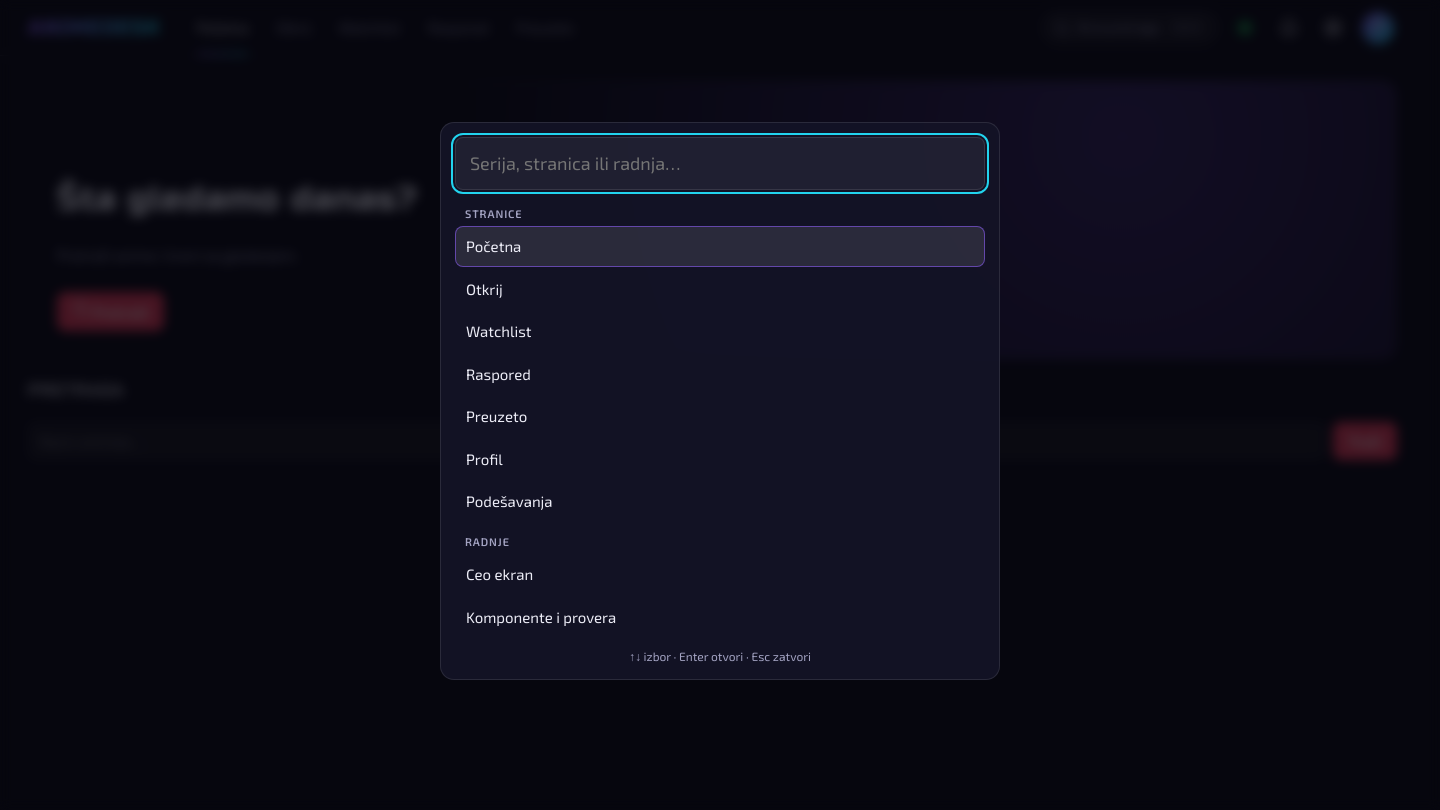
Test case: App command palette › the wizard action opens the setup wizard
Click the option "Komponente i provera" at (541, 616), box top-left (466, 608), bottom-right (616, 626)
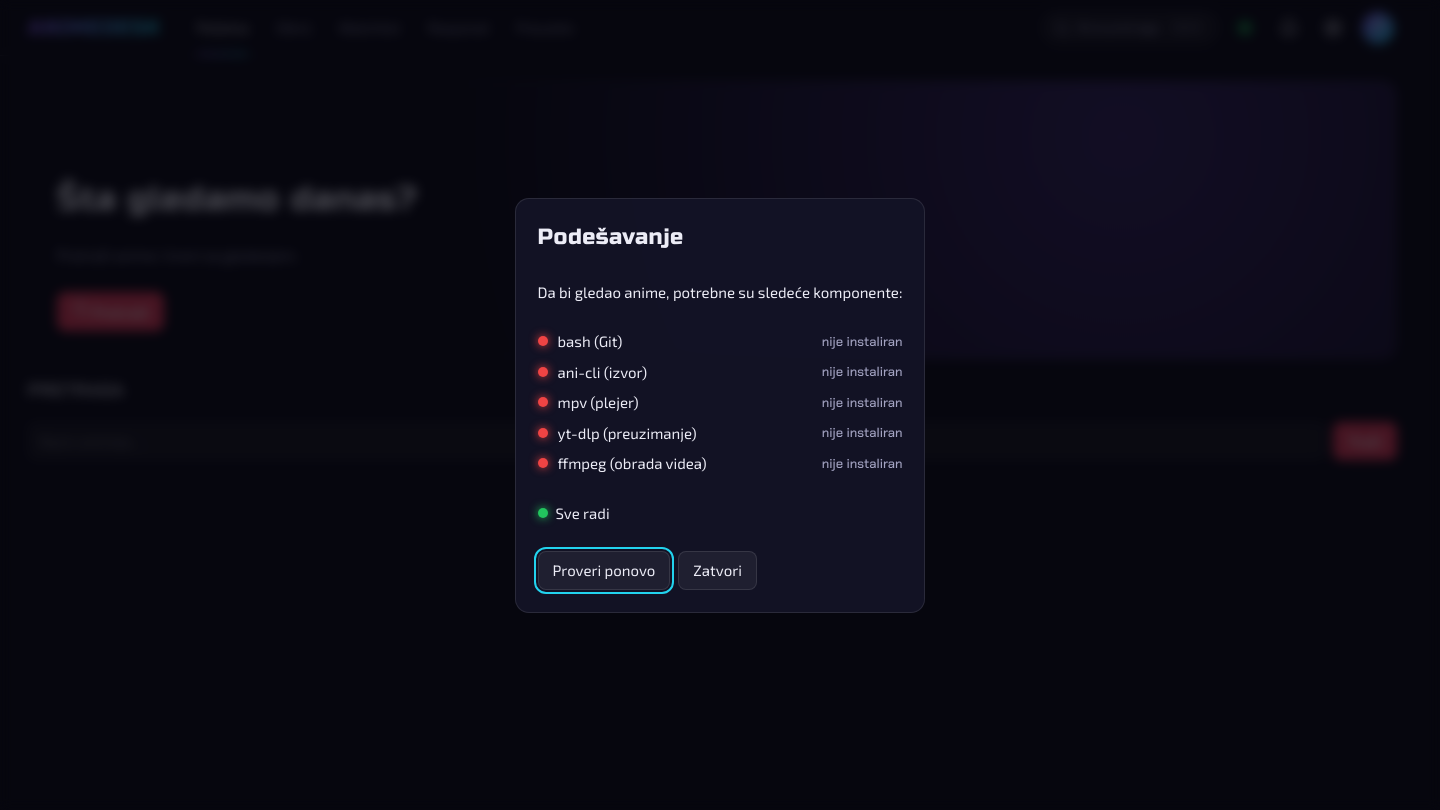
Expected: the heading "Podešavanje" is shown, top-left (538, 224), bottom-right (684, 250)
